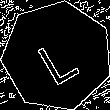L_NW: (31, 27, 83, 85)
